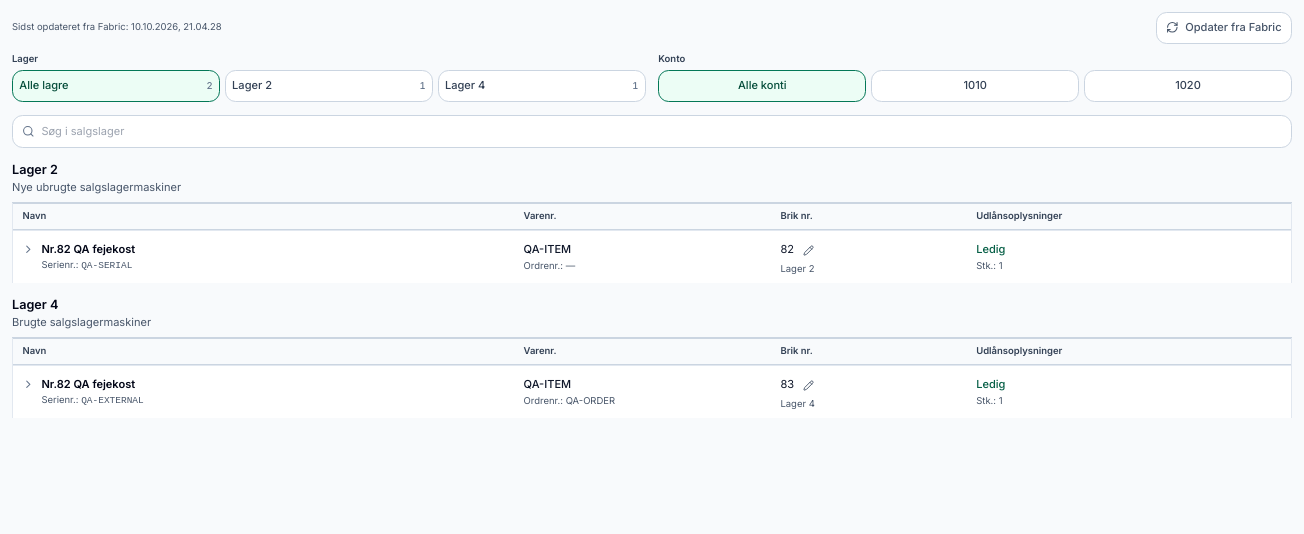
it: single Fabric stock dataset › searches brik, line text, serial, item, name, account and order without fabricating missing orders
In the field labelled "Søg i salgslager": (661, 132) left=41, top=116, right=1282, bottom=147, type "qa-external"
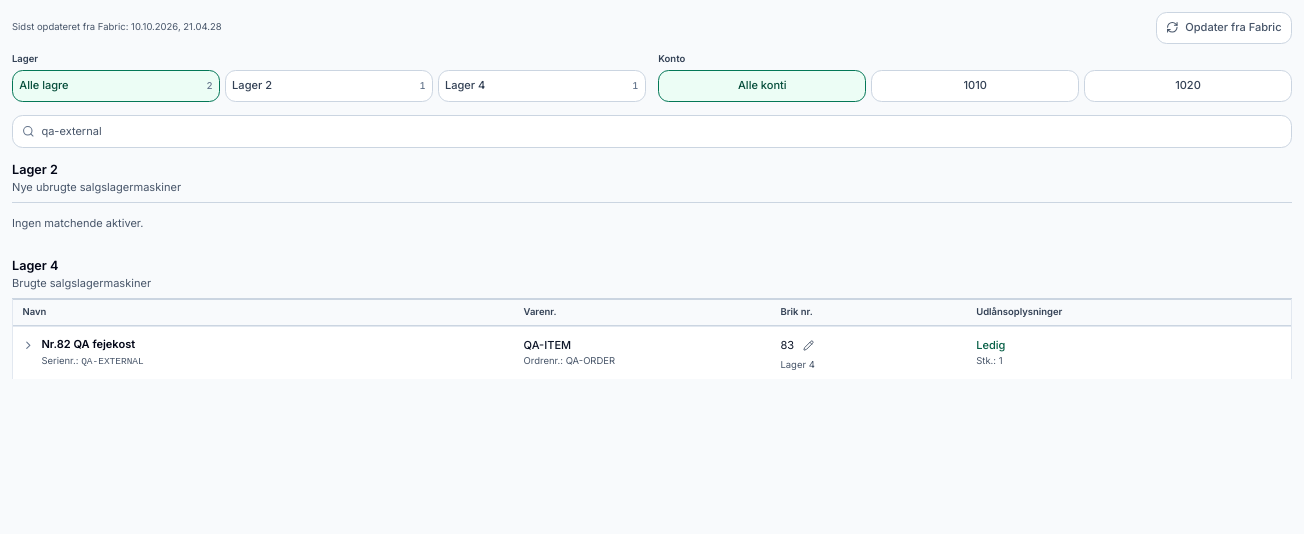
expect the text "QA-SERIAL" is gone: met
Click the text "QA-EXTERNAL": (112, 361) left=81, top=356, right=144, bottom=367
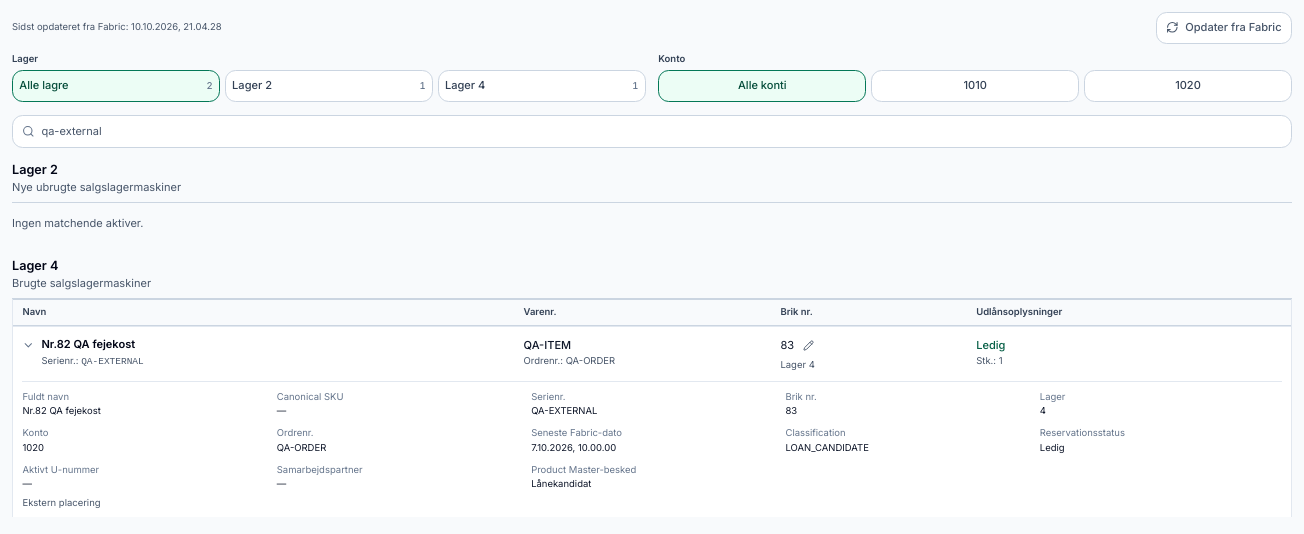
expect the text "Ekstern placering" is shown: met, box left=22, top=497, right=101, bottom=510
